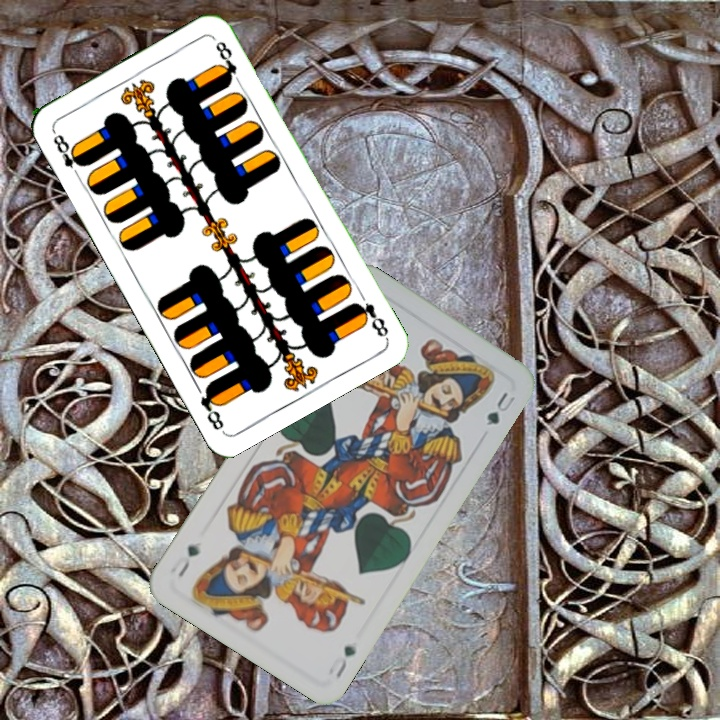E8: (49, 127, 88, 181), (349, 298, 391, 341)
GU: (329, 641, 359, 682)
